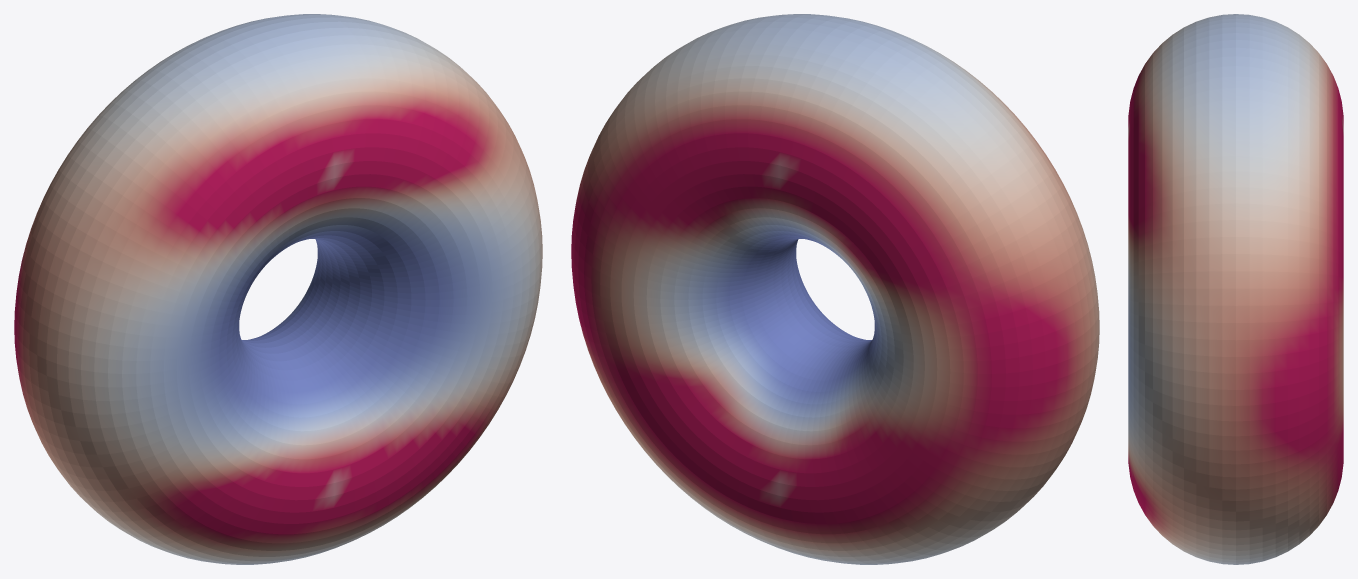
3 renders of one model, left to right at view 1: azimuth 30°, elevation 25°; view 2: azimuth 150°, elevation 25°; view 3: azimuth 270°, elevation 25°, orthographic. The views are drawn at different scales.
Parts seen in each view (by area): view 1: world; view 2: world; view 3: world.
Boxes of the visible parts, box(x1,y1,x2,y2) form: world: box(14, 14, 542, 564); world: box(571, 14, 1099, 564); world: box(1128, 14, 1343, 564).
Bounding box in the file's own units: 20.8 × 20.8 × 8.12.
